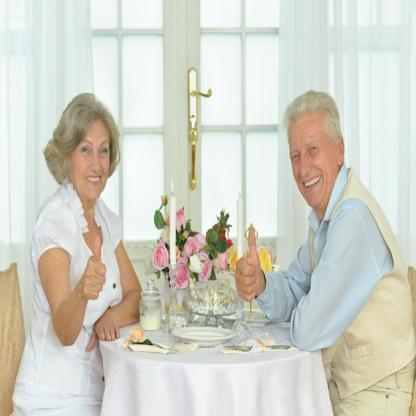thumb_up: (232, 220, 264, 302), (82, 231, 108, 303)
